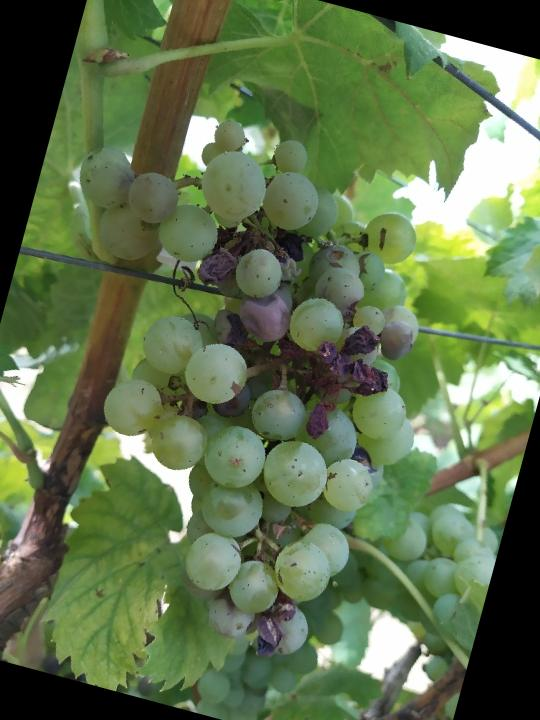grape: (0, 82, 487, 684)
